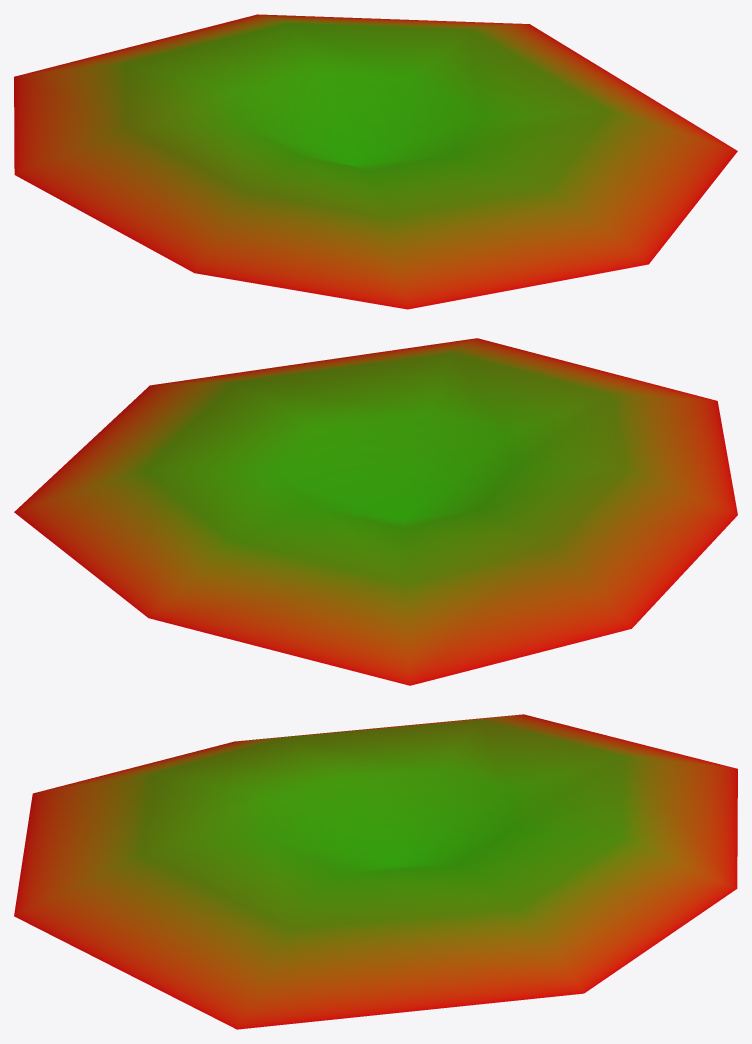
File: Cape Weed_LOD4_Var7_tjmhfcyia.fbx
The picture shows the model from 3 angles, top to bottom: view 1: azimuth 30°, elevation 25°; view 2: azimuth 150°, elevation 25°; view 3: azimuth 270°, elevation 25°; orthographic projection. The views are drawn at different scales.
Visible parts, largest first — view 1: _5bfd_Var7_LOD4; view 2: _5bfd_Var7_LOD4; view 3: _5bfd_Var7_LOD4.
Part boxes in pixels (left/top/right/bottom): _5bfd_Var7_LOD4: left=14, top=14, right=737, bottom=309; _5bfd_Var7_LOD4: left=14, top=338, right=737, bottom=685; _5bfd_Var7_LOD4: left=14, top=714, right=737, bottom=1029.
Bounding box in the file's own units: 17.37 × 1.63 × 17.92.
